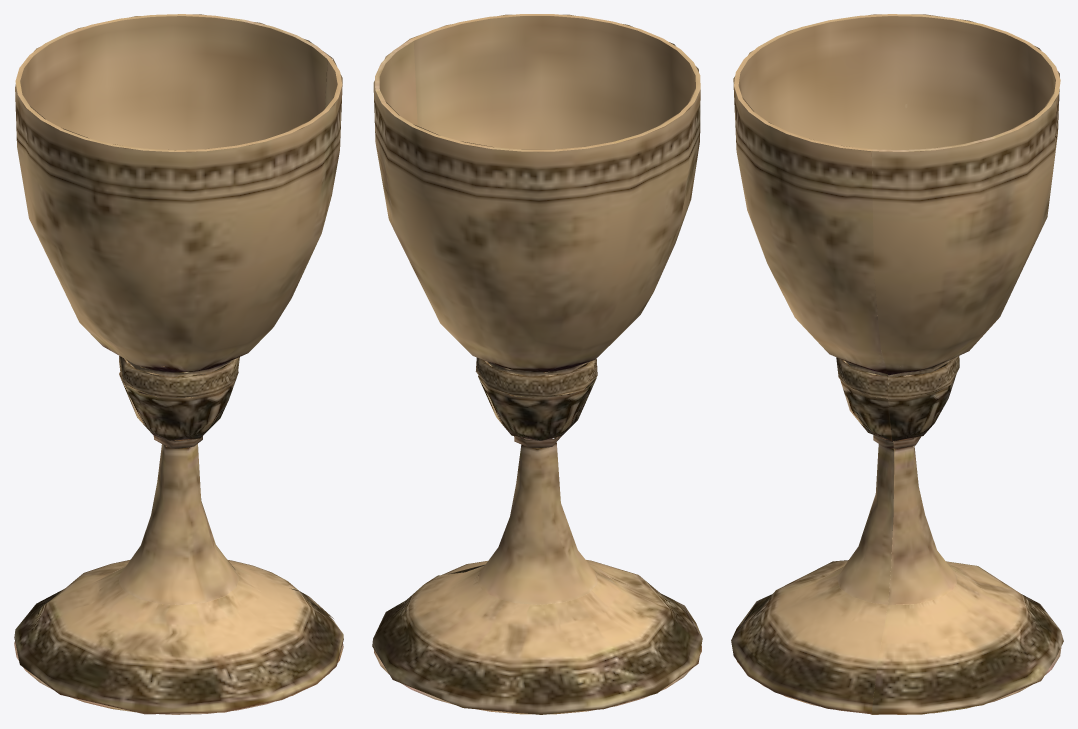
File: goblet_b.glb
3 renders of one model, left to right at view 1: azimuth 30°, elevation 25°; view 2: azimuth 150°, elevation 25°; view 3: azimuth 270°, elevation 25°, orthographic.
Parts seen in each view (by area): view 1: brass_goblet_02; view 2: brass_goblet_02; view 3: brass_goblet_02.
Part boxes in pixels (x1,y1,x2,y2): brass_goblet_02: [14, 14, 343, 714]; brass_goblet_02: [372, 14, 702, 714]; brass_goblet_02: [731, 14, 1063, 714].
Bounding box in the file's own units: 0.1413 × 0.2658 × 0.1425.
Materials: 1 (1 with a texture image).
